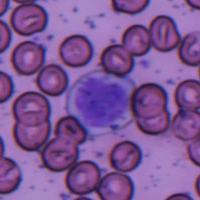M: (74, 74, 130, 128)
